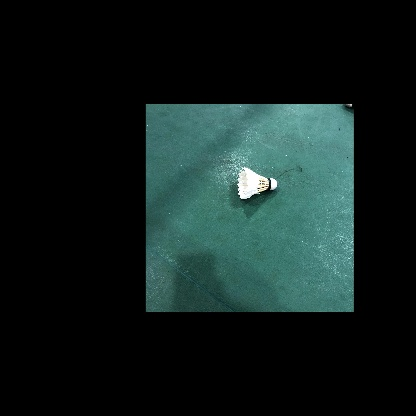ball_single: (237, 167, 277, 199)
